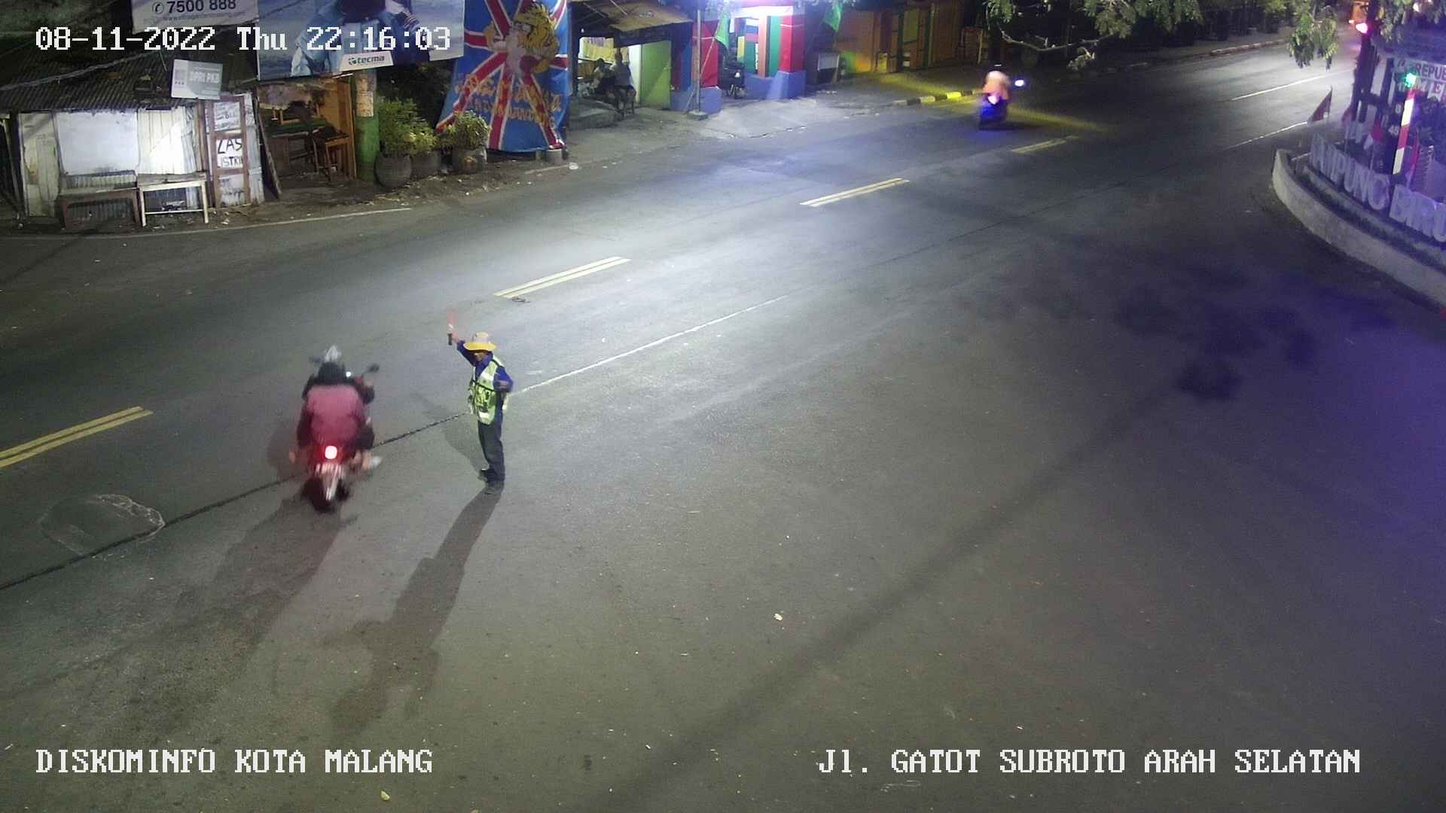without_helmet: (286, 337, 389, 509), (975, 48, 1025, 135)
